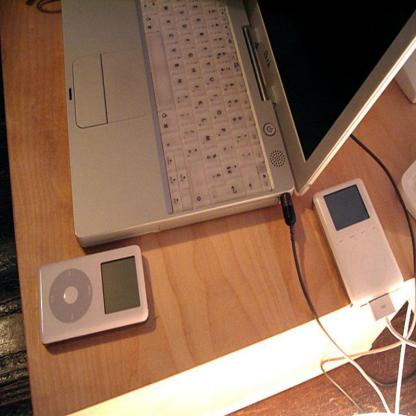board: (67, 0, 416, 242)
